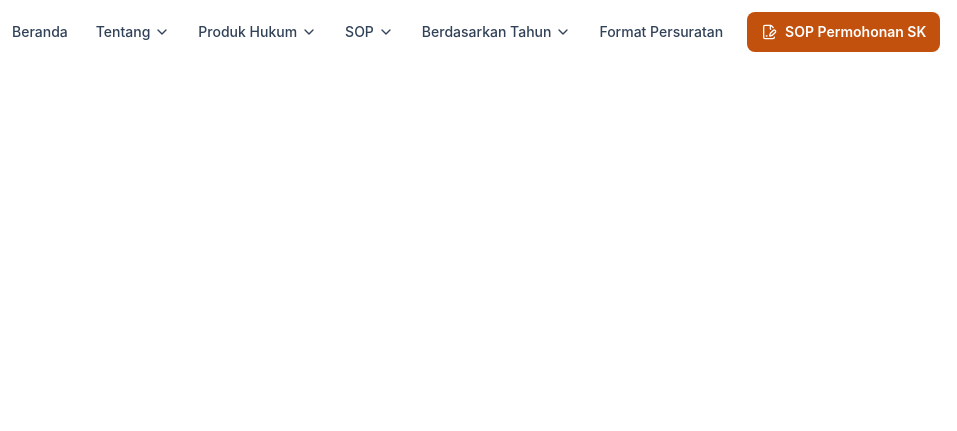
Test: orientasi dan keyboard navigasi publik › Escape menutup dropdown dan mengembalikan fokus ke pemicunya
Click the button "Produk Hukum": (258, 32) x1=186 y1=14 x2=329 y2=50
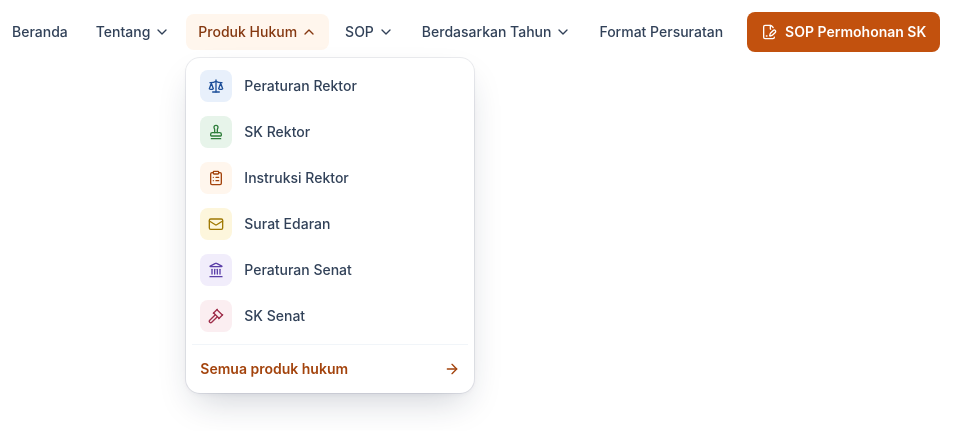
Press Escape
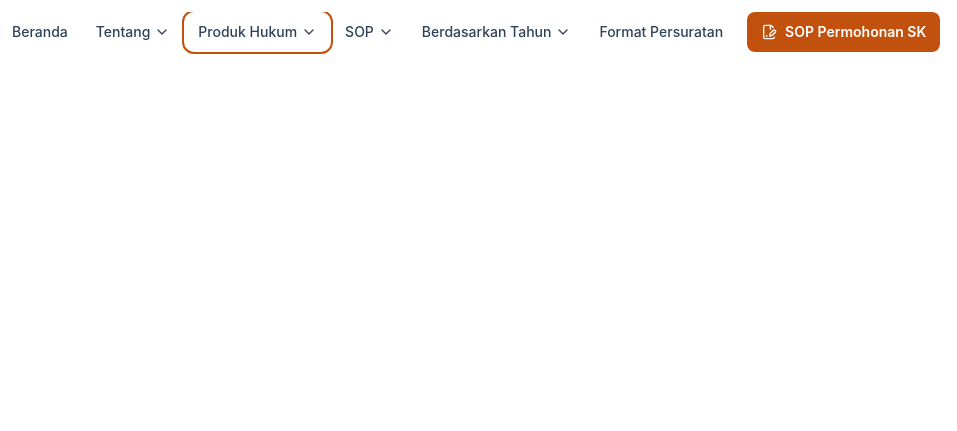
Expected: the button "Produk Hukum" is collapsed, x1=186 y1=14 x2=329 y2=50
